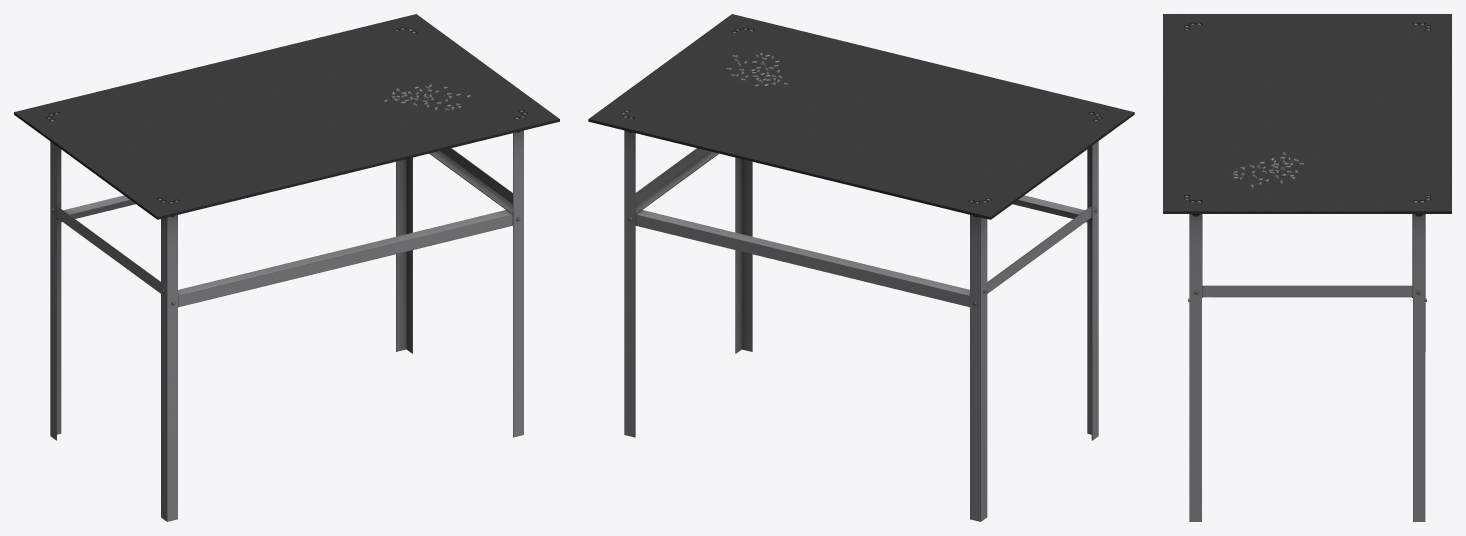
The model's file is Table.FBX.
3 views of the same model, side by side, from view 1: azimuth 30°, elevation 25°; view 2: azimuth 150°, elevation 25°; view 3: azimuth 270°, elevation 25° (orthographic).
Visible parts, largest first — view 1: Table, TablePart1; view 2: Table, TablePart1; view 3: Table, TablePart1.
Boxes of the visible parts, left/top/right/bottom form: Table: left=14, top=14, right=559, bottom=521; TablePart1: left=383, top=84, right=470, bottom=110; Table: left=588, top=14, right=1134, bottom=521; TablePart1: left=726, top=52, right=788, bottom=87; Table: left=1163, top=14, right=1451, bottom=521; TablePart1: left=1233, top=152, right=1303, bottom=188.
Size of the model in its own units: 982 by 607 by 756.
